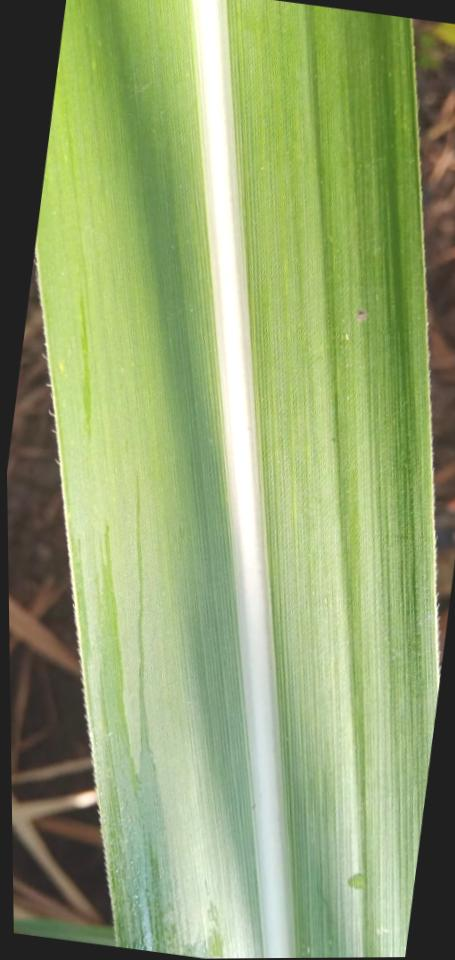Healthy: (34, 0, 438, 959)
